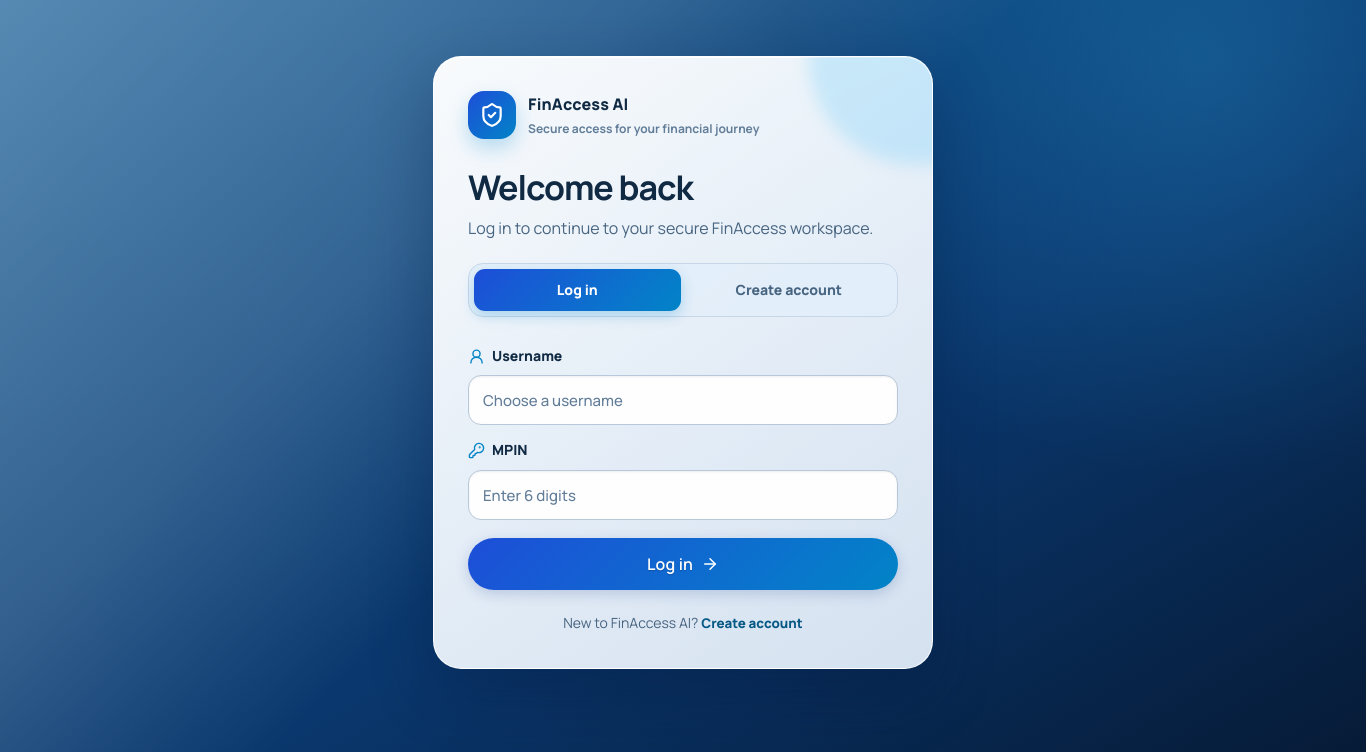
AuthPage › shows signup fields without a phone input and filters MPIN to six digits
The image size is (1366, 752).
Click the button "Create account". click: (752, 623)
box: x1=701 y1=614 x2=803 y2=632
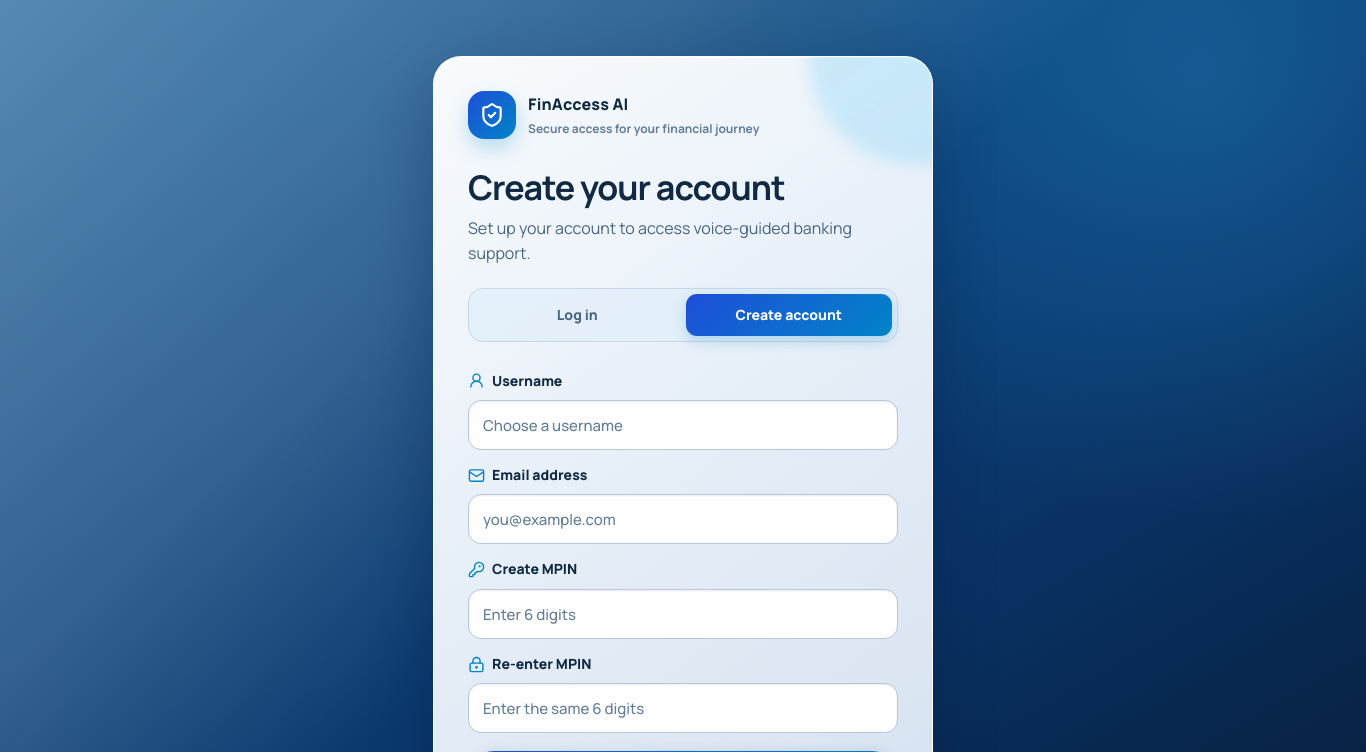
Expected: the heading "Create your account" is shown, x1=468 y1=164 x2=785 y2=210
Expected: the field labelled "Email address" is shown, x1=468 y1=494 x2=898 y2=544
Expected: the password field labelled "Re-enter MPIN" is shown, x1=468 y1=683 x2=898 y2=733
Type "12a3456789" into the password field labelled "Create MPIN". click: (683, 614)
box: x1=468 y1=589 x2=898 y2=639
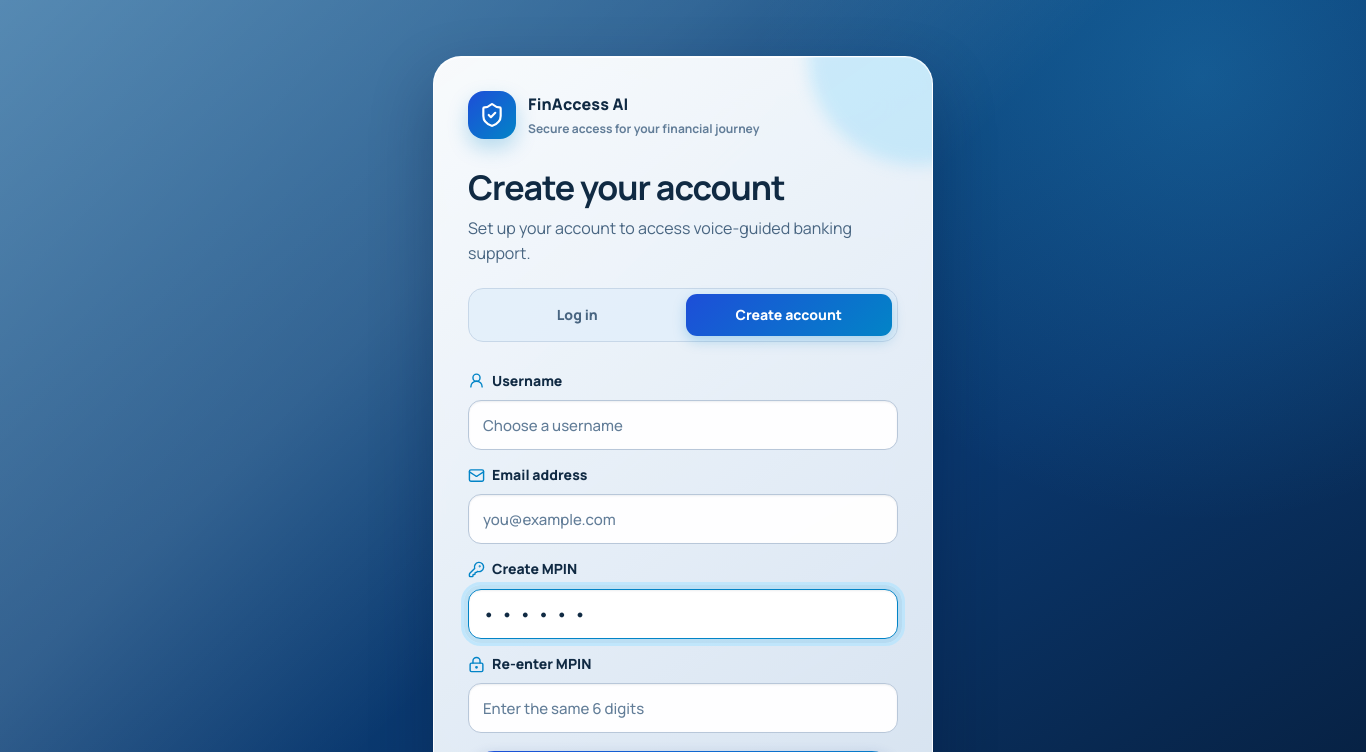
Expected: the password field labelled "Create MPIN" holds "123456", x1=468 y1=589 x2=898 y2=639
